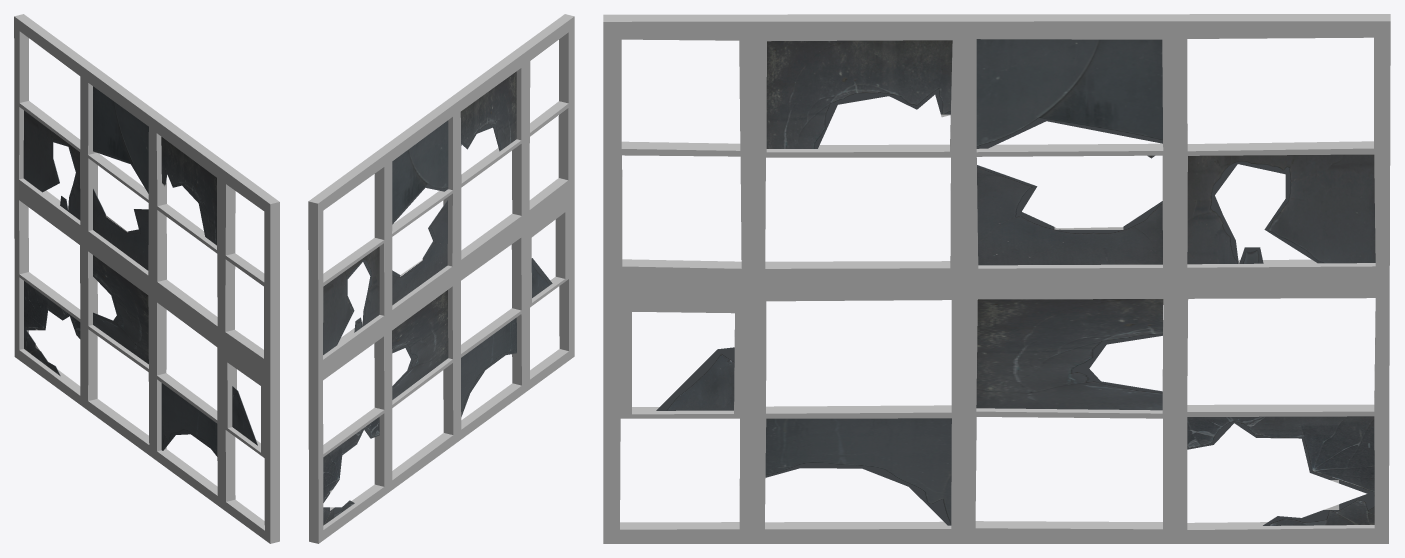
The model's file is Windows_Big_03.fbx.
The picture shows the model from 3 angles, left to right: view 1: azimuth 30°, elevation 25°; view 2: azimuth 150°, elevation 25°; view 3: azimuth 270°, elevation 25°; orthographic projection. The views are drawn at different scales.
Parts seen in each view (by area): view 1: Windows_Big_03, Windows_Big_03glass (×8); view 2: Windows_Big_03, Windows_Big_03glass (×8); view 3: Windows_Big_03, Windows_Big_03glass (×8).
Part boxes in pixels (x1,y1,x2,y2): Windows_Big_03: (14, 14, 279, 543); Windows_Big_03glass (×8): (23, 86, 257, 456); Windows_Big_03: (308, 14, 574, 543); Windows_Big_03glass (×8): (323, 71, 552, 525); Windows_Big_03: (603, 14, 1390, 543); Windows_Big_03glass (×8): (656, 39, 1375, 525).
Size of the model in its own units: 4.23 by 196 by 143.
